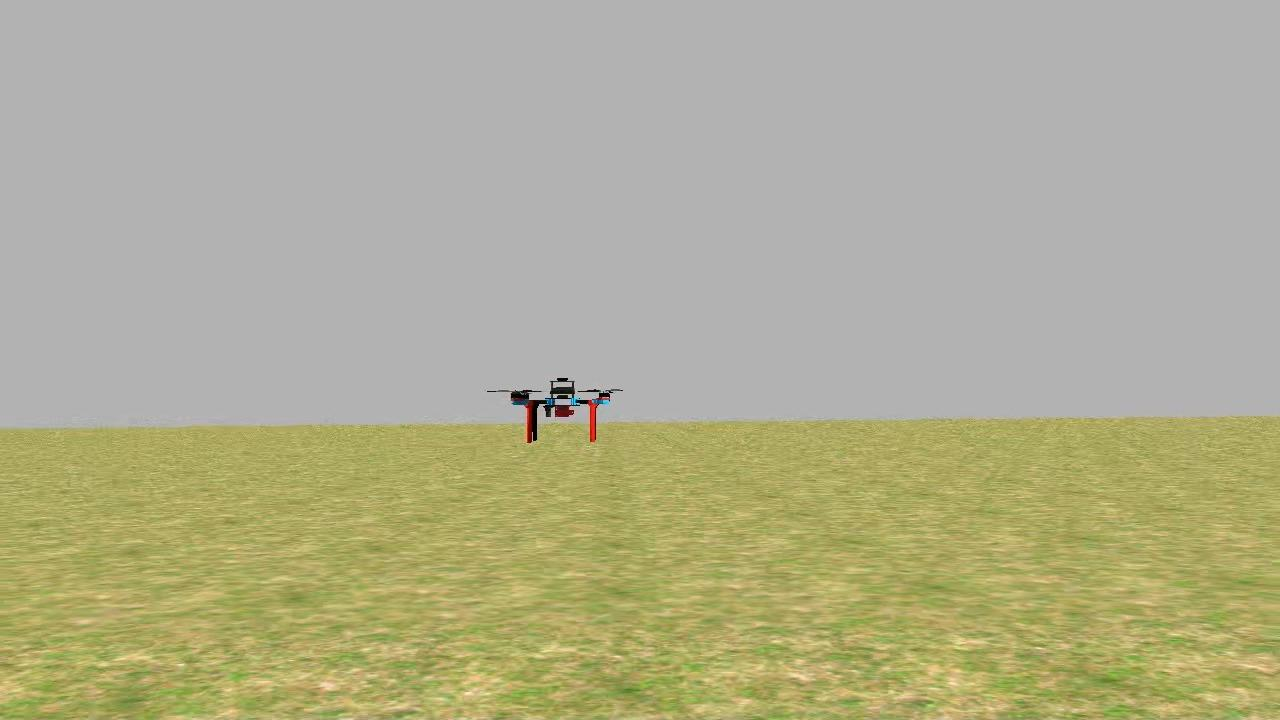UAV: (510, 376, 616, 446)
